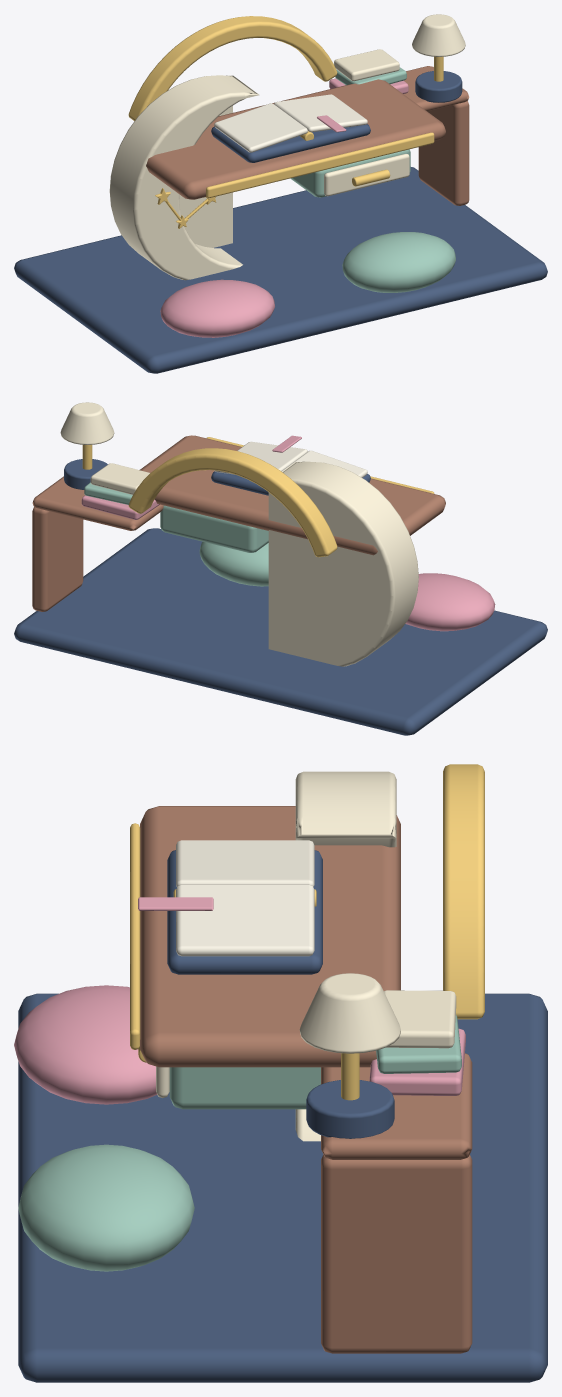
Rendered from MoonReadingNook.fbx.
The picture shows the model from 3 angles, top to bottom: view 1: azimuth 30°, elevation 25°; view 2: azimuth 150°, elevation 25°; view 3: azimuth 270°, elevation 25°; orthographic projection. The views are drawn at different scales.
Parts seen in each view (by area): view 1: ReadingNookBase, CrescentPedestal, ReadingDesktop, MoonReadingArch, ReadingFootrest, ReadingCushion, OpenBookPages, SideShelfSupport, DesktopBrassEdge, OpenBookCradle, ReadingLampHousing, BookmarkDrawerFront (+6 smaller); view 2: ReadingNookBase, CrescentPedestal, ReadingDesktop, MoonReadingArch, SideShelfSupport, ReadingCushion, BookmarkDrawer, ReadingSideShelf, ReadingFootrest, ReadingLampHousing, OpenBookPages, BookStackUpper (+4 smaller); view 3: ReadingNookBase, ReadingDesktop, SideShelfSupport, ReadingFootrest, OpenBookPages, ReadingCushion, MoonReadingArch, CrescentPedestal, ReadingSideShelf, ReadingLampHousing, BookmarkDrawer, OpenBookCradle (+7 smaller).
Boxes of the visible parts, bbox=[...] form: ReadingNookBase: bbox=[14, 167, 547, 373]; CrescentPedestal: bbox=[109, 75, 259, 280]; ReadingDesktop: bbox=[146, 79, 445, 199]; MoonReadingArch: bbox=[128, 16, 337, 120]; ReadingFootrest: bbox=[342, 232, 455, 292]; ReadingCushion: bbox=[160, 279, 274, 337]; OpenBookPages: bbox=[214, 94, 367, 152]; SideShelfSupport: bbox=[418, 101, 469, 205]; DesktopBrassEdge: bbox=[206, 132, 434, 197]; OpenBookCradle: bbox=[211, 124, 370, 162]; ReadingLampHousing: bbox=[412, 14, 465, 56]; BookmarkDrawerFront: bbox=[324, 153, 409, 196]; ReadingNookBase: bbox=[14, 528, 547, 735]; CrescentPedestal: bbox=[268, 461, 418, 666]; ReadingDesktop: bbox=[139, 435, 445, 555]; MoonReadingArch: bbox=[128, 448, 337, 557]; SideShelfSupport: bbox=[32, 507, 83, 611]; ReadingCushion: bbox=[405, 573, 495, 631]; BookmarkDrawer: bbox=[160, 505, 268, 552]; ReadingSideShelf: bbox=[32, 476, 163, 530]; ReadingFootrest: bbox=[199, 542, 268, 586]; ReadingLampHousing: bbox=[60, 402, 114, 444]; OpenBookPages: bbox=[214, 441, 367, 477]; BookStackUpper: bbox=[90, 463, 149, 494]; ReadingNookBase: bbox=[18, 993, 547, 1382]; ReadingDesktop: bbox=[140, 806, 400, 1067]; SideShelfSupport: bbox=[321, 1154, 472, 1353]; ReadingFootrest: bbox=[18, 1144, 194, 1271]; OpenBookPages: bbox=[176, 840, 314, 956]; ReadingCushion: bbox=[14, 985, 157, 1104]; MoonReadingArch: bbox=[443, 764, 484, 1019]; CrescentPedestal: bbox=[295, 771, 396, 1141]; ReadingSideShelf: bbox=[321, 1053, 472, 1159]; ReadingLampHousing: bbox=[299, 973, 400, 1053]; BookmarkDrawer: bbox=[169, 1067, 320, 1109]; OpenBookCradle: bbox=[167, 850, 322, 974].
Bounding box in the file's own units: 2.08 × 1.1 × 1.27.
